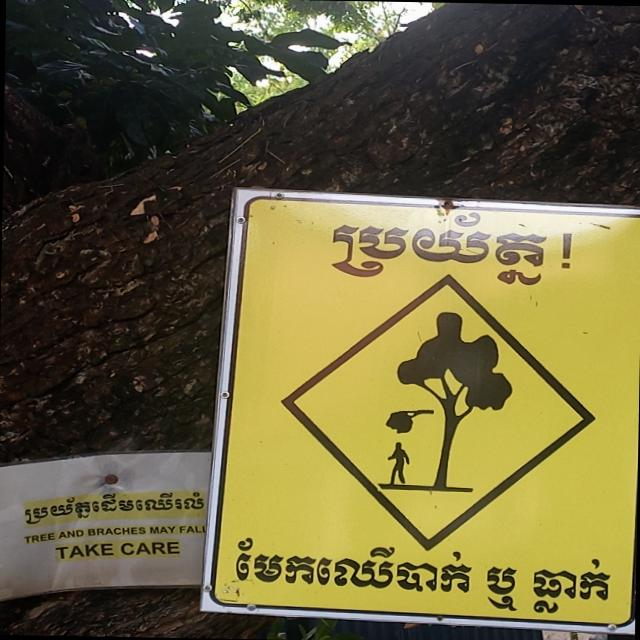2: (228, 529, 621, 618)
Yolov11kh: (322, 199, 556, 286), (22, 484, 208, 528)
